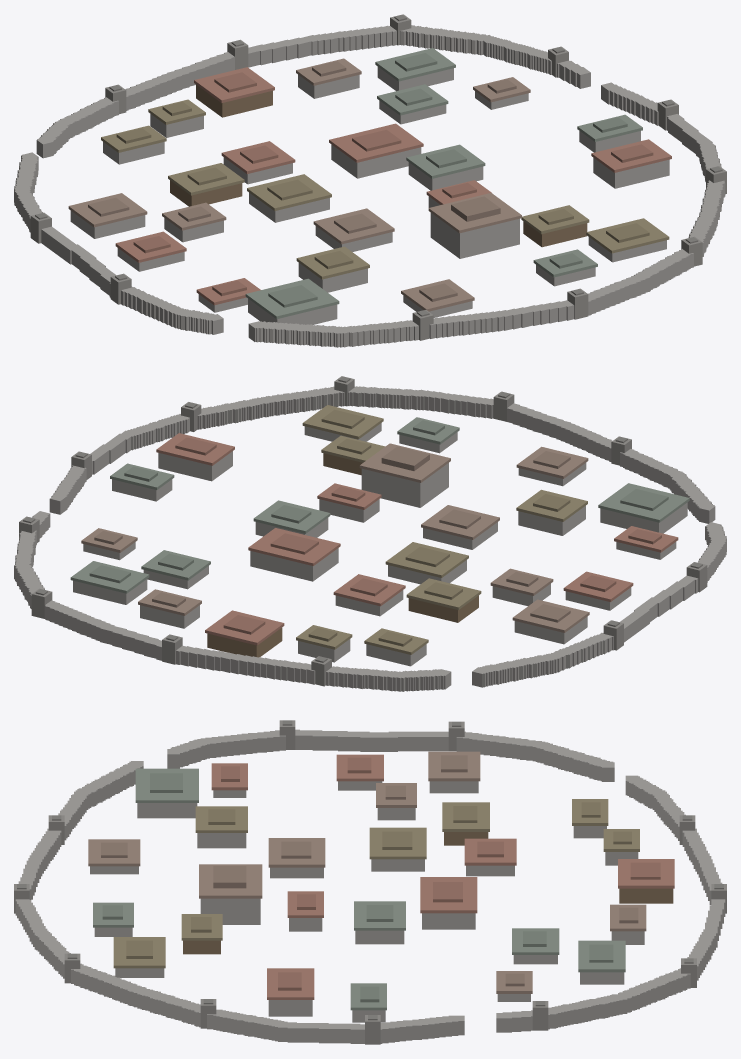
Rendered from ciudad_capital_regional_2583_946_01.glb.
3 renders of one model, top to bottom at view 1: azimuth 30°, elevation 25°; view 2: azimuth 150°, elevation 25°; view 3: azimuth 270°, elevation 25°, orthographic. The views are drawn at different scales.
Parts seen in each view (by area): view 1: ciudad_capital_regional_2583_946; view 2: ciudad_capital_regional_2583_946; view 3: ciudad_capital_regional_2583_946.
Boxes of the visible parts, x1,y1,x2,y2 form: ciudad_capital_regional_2583_946: (14, 14, 726, 347); ciudad_capital_regional_2583_946: (14, 376, 726, 691); ciudad_capital_regional_2583_946: (14, 720, 726, 1044).
Bounding box in the file's own units: 113 × 6.25 × 113.
